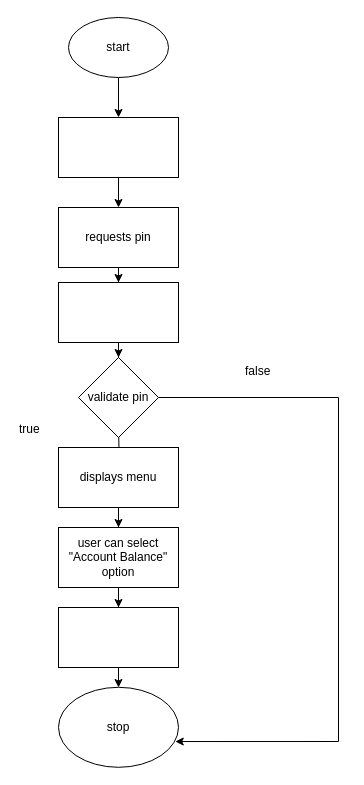
The diagram is 364 pixels wide and 785 high, and some of its shapes have lost their labels. Each missing label, with the centre of its shape:
check balance: the point at 118,637
enter pin: the point at 118,312
insert ATM card: the point at 118,147
